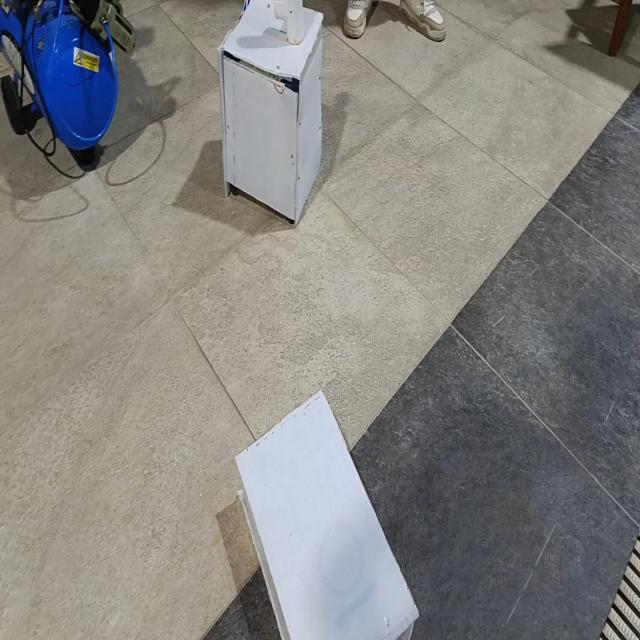Cube: (217, 0, 324, 226)
Cuboid: (233, 388, 420, 638)
